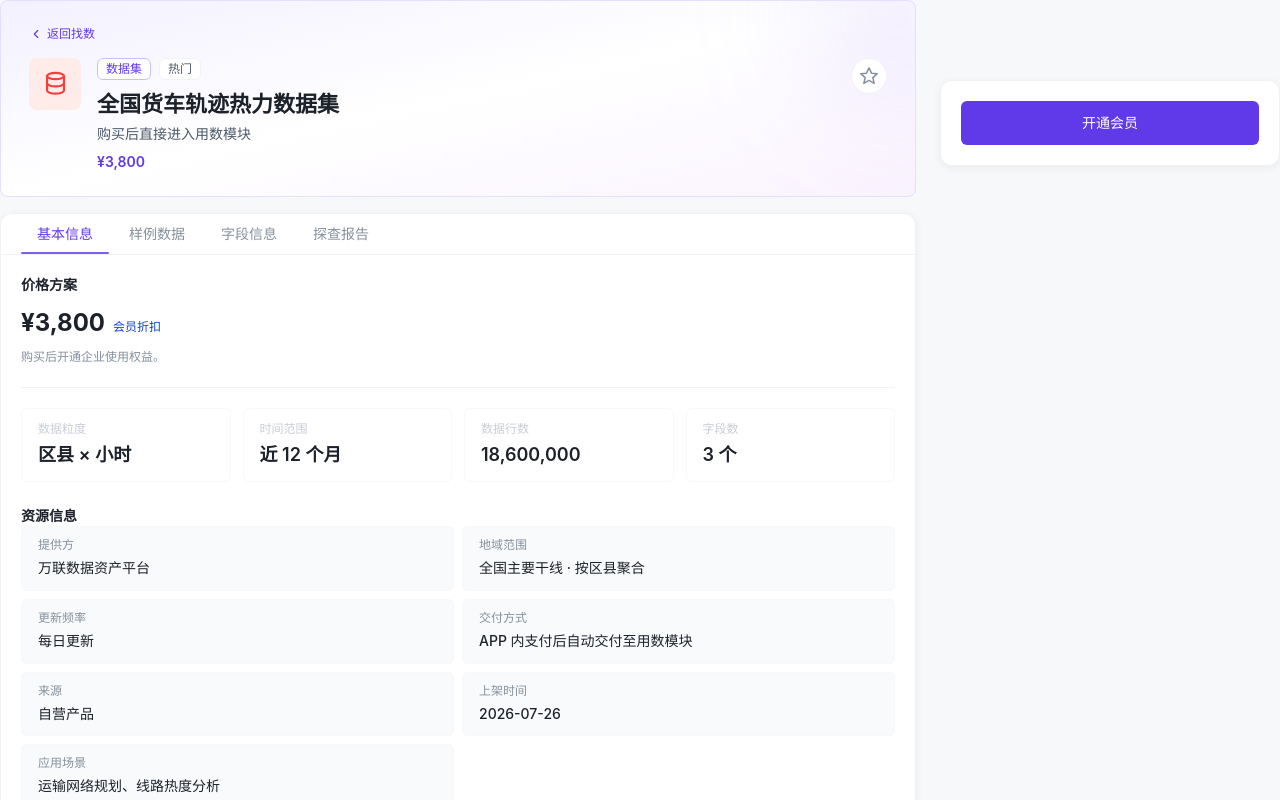
PortalProductDetail dataset tabs › retains the sample and profiling tabs for non-trusted datasets
Click the button "样例数据": (157, 234) [113,214,201,254]
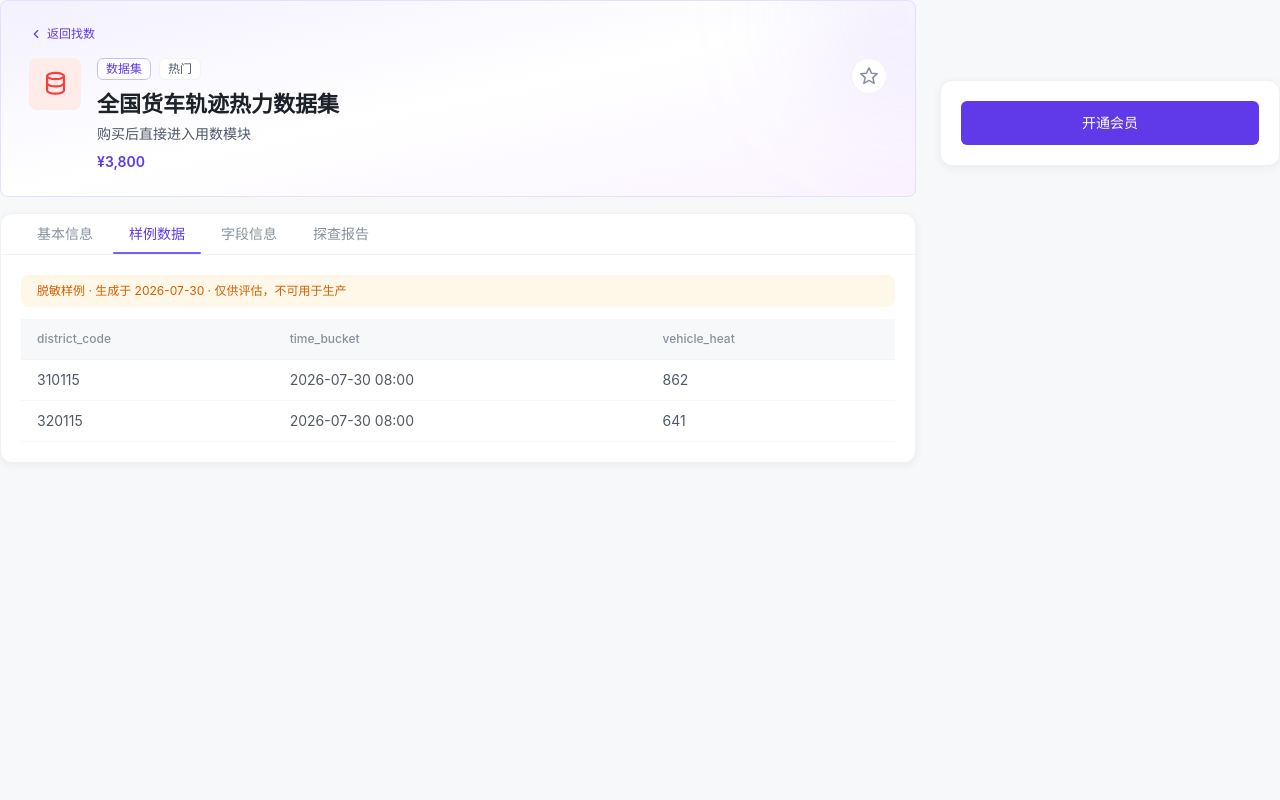
Expected: the text "脱敏样例" is shown, [37,283,346,298]
